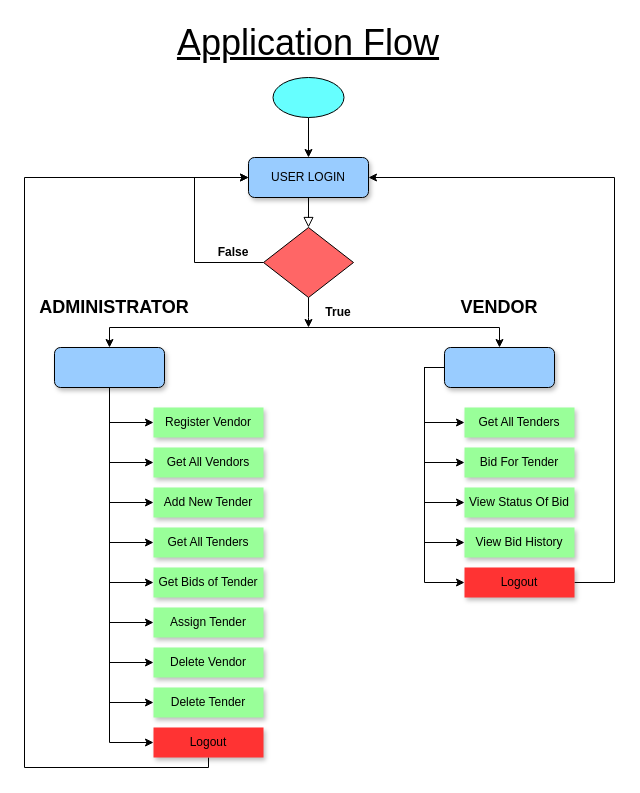
Some shapes in this 640 by 793 pixel diagram are drawn without their labels. Each missing label, with the centre of its shape:
"Administrator Menu" belongs at [110,368].
"credentials matched?" belongs at [308,262].
"START" belongs at [308,97].
"Vendor Menu" belongs at [500,368].
